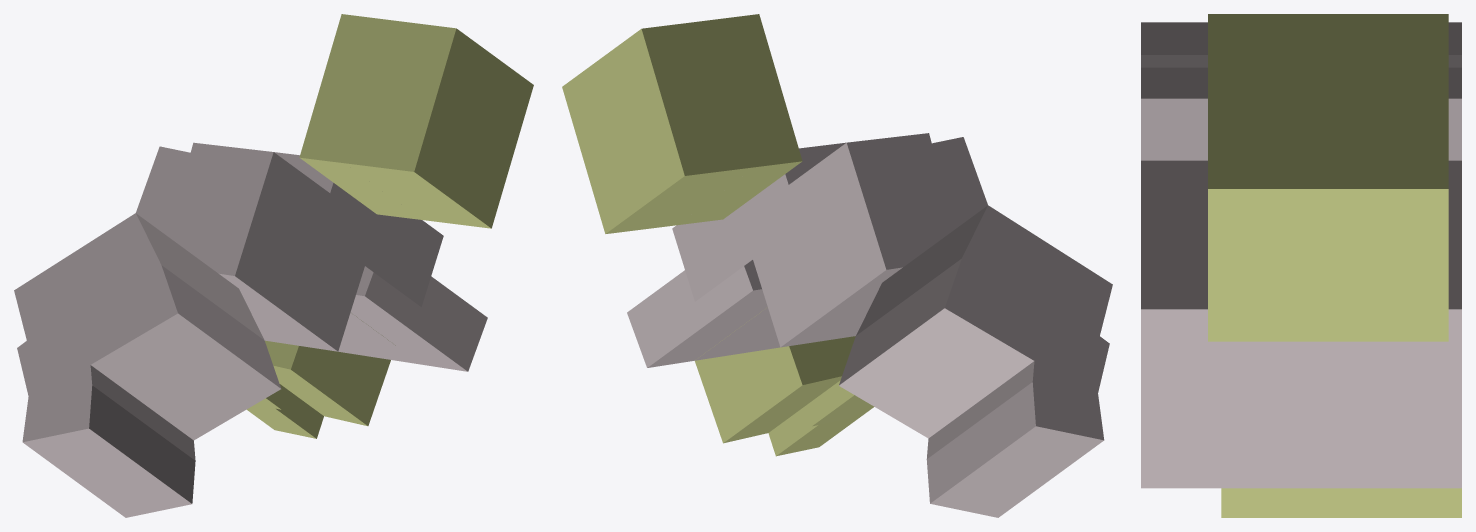
The picture shows the model from 3 angles, left to right: view 1: azimuth 30°, elevation 25°; view 2: azimuth 150°, elevation 25°; view 3: azimuth 270°, elevation 25°; orthographic projection. The views are drawn at different scales.
Visible parts, largest first — view 1: 0_1_1_3_3_0_1_2_2_1; view 2: 0_1_1_3_3_0_1_2_2_1; view 3: 0_1_1_3_3_0_1_2_2_1.
Boxes of the visible parts, x1,y1,x2,y2 form: 0_1_1_3_3_0_1_2_2_1: (14, 14, 533, 517); 0_1_1_3_3_0_1_2_2_1: (562, 14, 1112, 517); 0_1_1_3_3_0_1_2_2_1: (1141, 14, 1461, 517).
Bounding box in the file's own units: 29.38 × 22.88 × 12.
